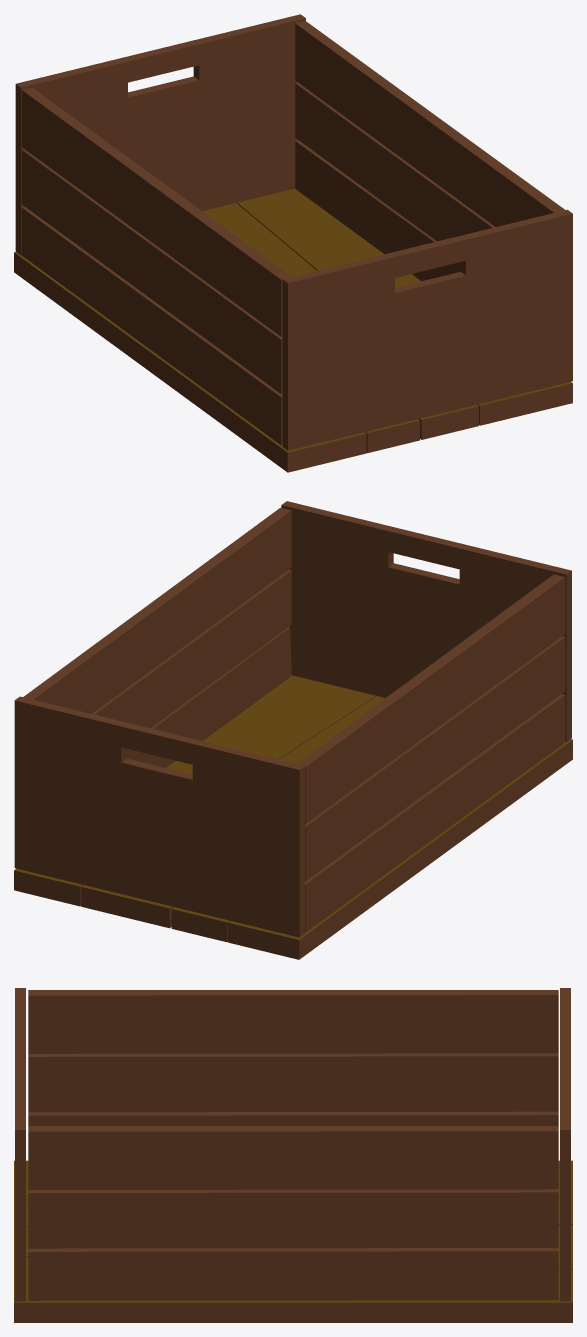
File: crate01.gltf
The picture shows the model from 3 angles, top to bottom: view 1: azimuth 30°, elevation 25°; view 2: azimuth 150°, elevation 25°; view 3: azimuth 270°, elevation 25°; orthographic projection. The views are drawn at different scales.
Parts seen in each view (by area): view 1: Cube.005; view 2: Cube.005; view 3: Cube.005.
Boxes of the visible parts, bbox=[...] form: Cube.005: bbox=[14, 14, 572, 472]; Cube.005: bbox=[14, 501, 572, 959]; Cube.005: bbox=[14, 988, 572, 1322].
Bounding box in the file's own units: 0.3011 × 0.1905 × 0.5.
1 material, 1 textured.
